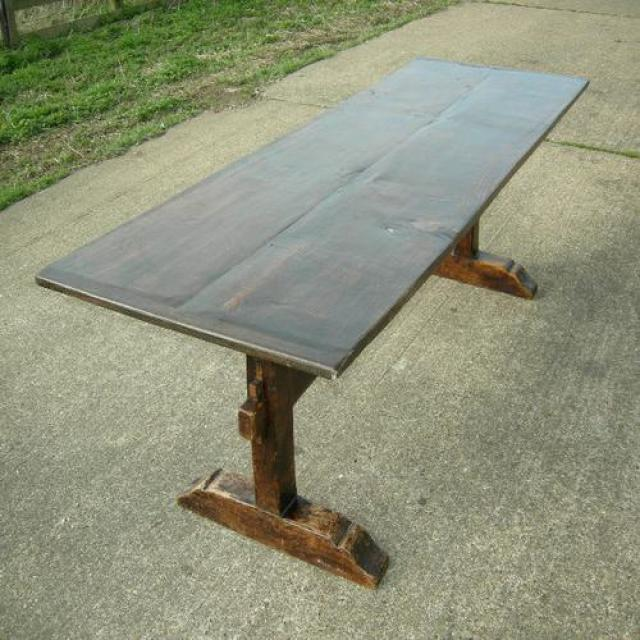table: (37, 58, 591, 593)
